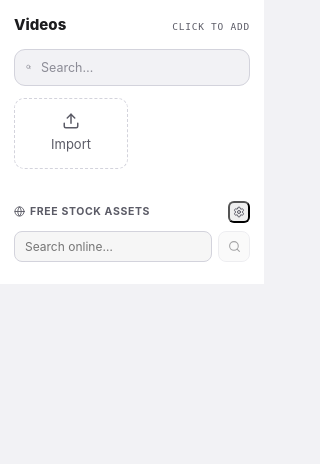
Test case: LibraryPanel — searching online › shows a per-provider warning without hiding the results
Type "cats" into the field with placeholder "Search online…" at (113, 246), box [14, 231, 212, 262]
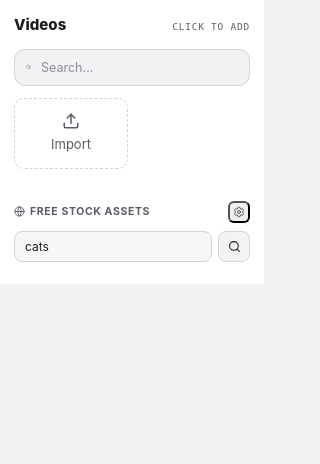
Click the 2nd button at (234, 246), box [218, 231, 250, 262]
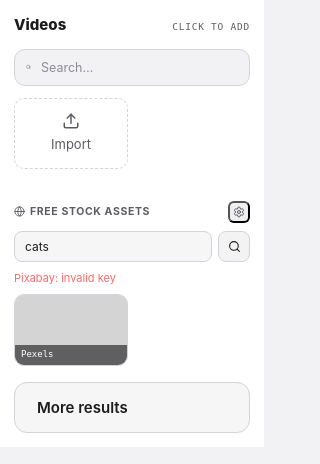
Result: the text "Pixabay: invalid key" is shown at [14, 271, 116, 285]
